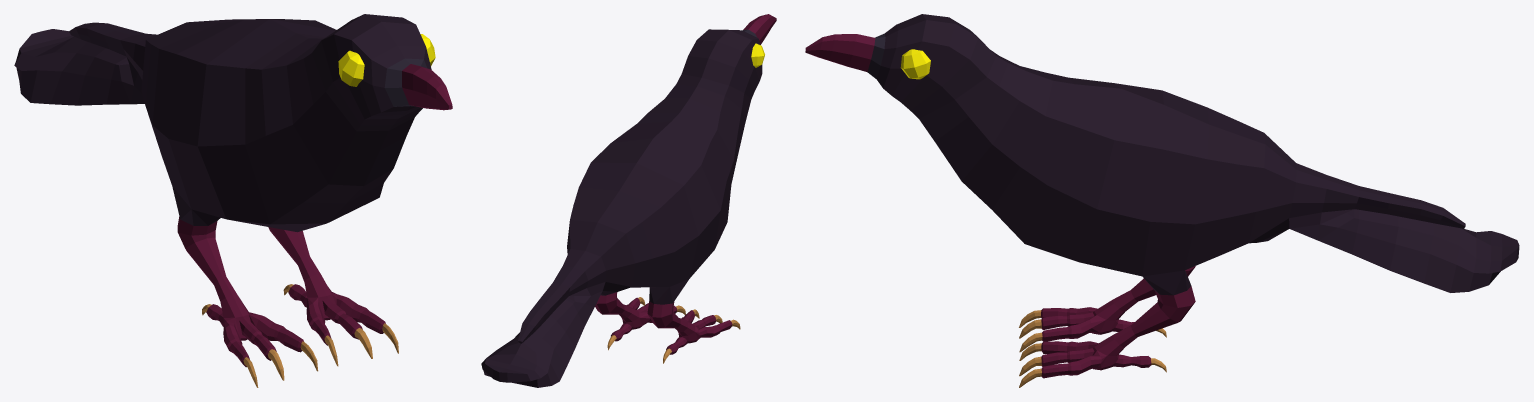
Rendered from F_Crow_01.fbx.
3 views of the same model, side by side, from view 1: azimuth 30°, elevation 25°; view 2: azimuth 150°, elevation 25°; view 3: azimuth 270°, elevation 25° (orthographic). The views are drawn at different scales.
Parts seen in each view (by area): view 1: F_Crow_01; view 2: F_Crow_01; view 3: F_Crow_01.
Boxes of the visible parts, <box> form: F_Crow_01: <box>14,14,452,387</box>; F_Crow_01: <box>481,14,776,387</box>; F_Crow_01: <box>805,14,1519,387</box>.
Bounding box in the file's own units: 17.31 × 37.31 × 71.46.
